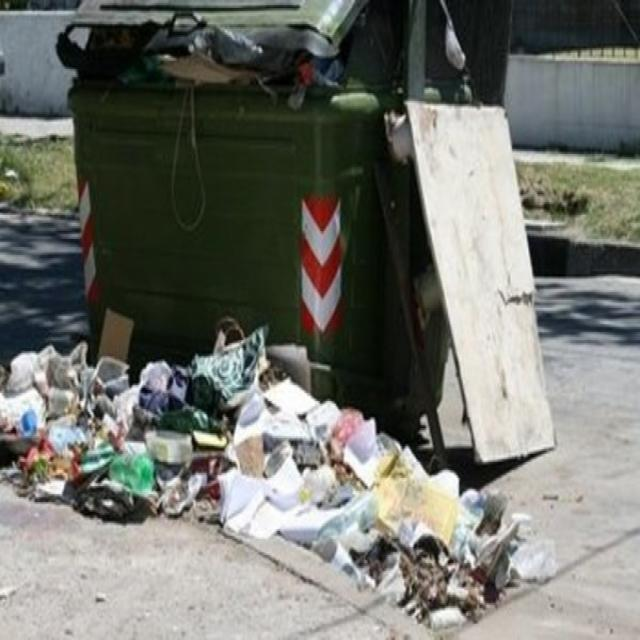garbage: (0, 321, 569, 624), (72, 6, 356, 162), (390, 71, 550, 332)
